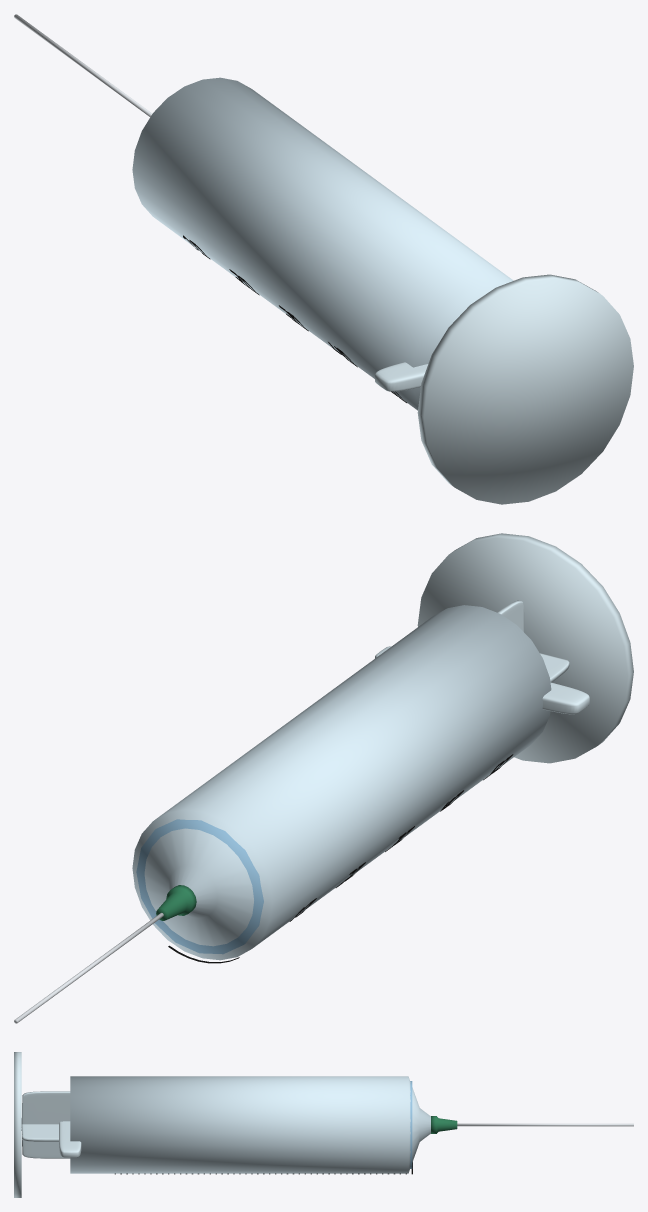
Rendered from syringe_50.glb.
3 views of the same model, one above another, from view 1: azimuth 30°, elevation 25°; view 2: azimuth 150°, elevation 25°; view 3: azimuth 270°, elevation 25° (orthographic). The views are drawn at different scales.
Visible parts, largest first — view 1: Barrel, Rod, Flange, Needle; view 2: Barrel, Rod, Level, Flange, Hub, Needle; view 3: Barrel, Rod, Needle, Flange, Hub, Level.
Part boxes in pixels (x1,y1,x2,y2): Barrel: (132,77,513,410); Rod: (417,274,633,504); Flange: (375,362,428,391); Needle: (14,14,152,116); Barrel: (132,605,551,960); Rod: (417,533,633,763); Level: (136,819,263,954); Flange: (375,646,589,714); Hub: (156,885,196,920); Needle: (14,913,163,1023); Barrel: (70,1076,430,1173); Rod: (14,1052,70,1197); Needle: (457,1123,633,1126); Flange: (59,1121,81,1157); Hub: (431,1116,457,1133); Level: (410,1081,412,1168).
Bounding box in the file's own units: 0.039 × 0.039 × 0.165.
